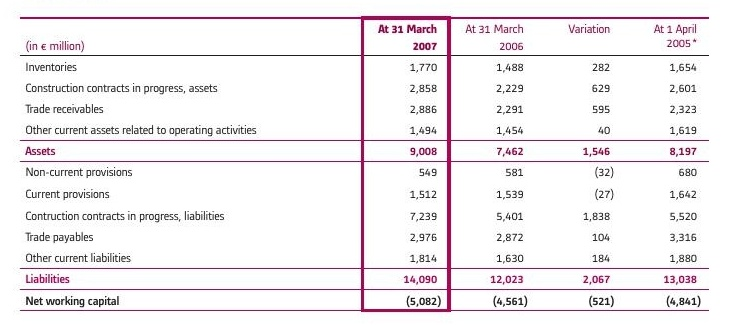table: (0, 0, 738, 325)
